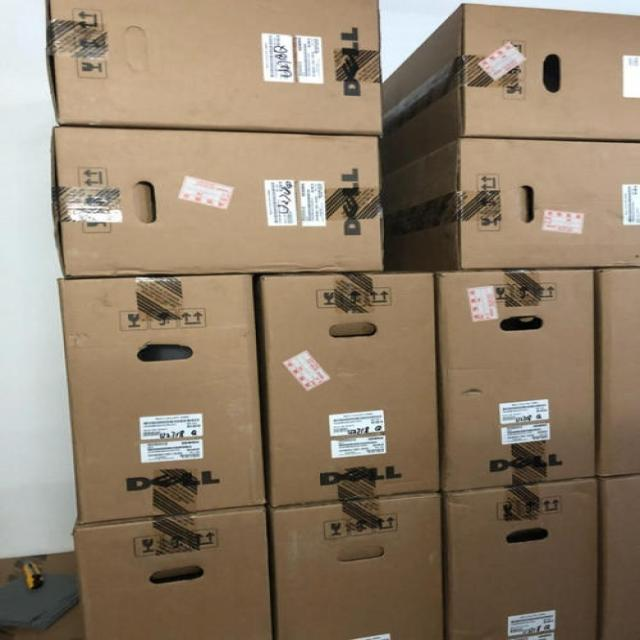box: (58, 275, 268, 526), (51, 129, 384, 280), (45, 0, 383, 136), (383, 4, 640, 176), (259, 274, 440, 507), (436, 271, 596, 490), (381, 138, 640, 273), (73, 509, 275, 640), (268, 493, 442, 640), (443, 479, 600, 640), (598, 270, 640, 477), (600, 474, 640, 640)
